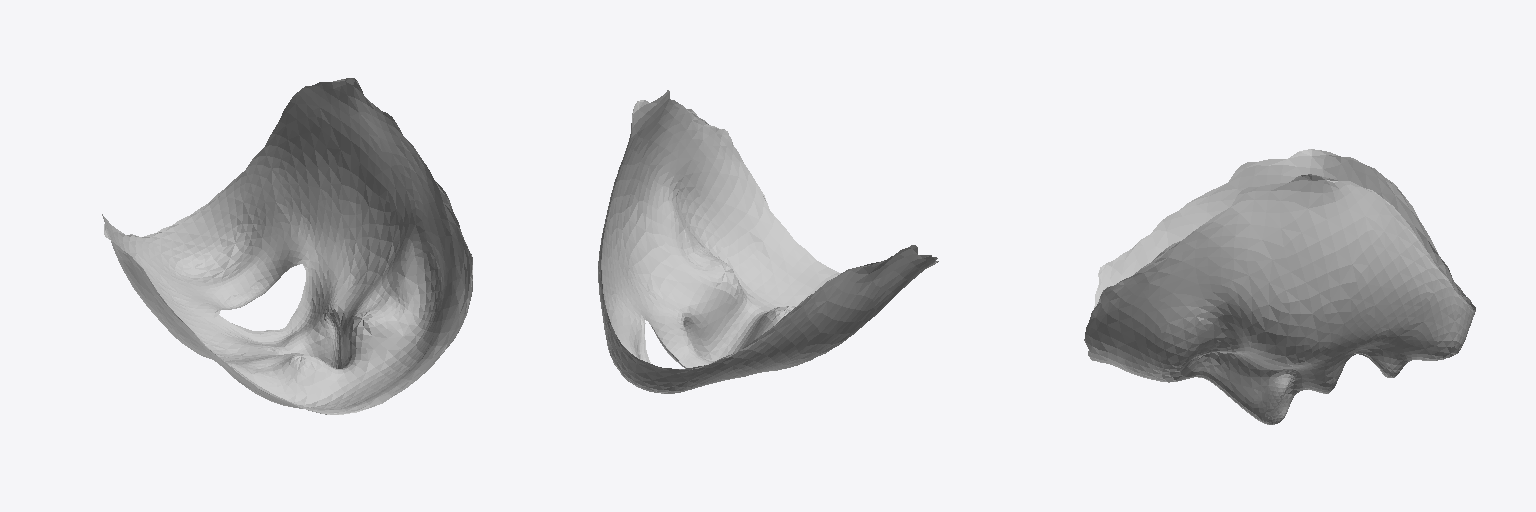
Rendered from face_gab_sfm80.obj.
3 renders of one model, left to right at view 1: azimuth 30°, elevation 25°; view 2: azimuth 150°, elevation 25°; view 3: azimuth 270°, elevation 25°, orthographic.
Size of the model in its own units: 166 by 162 by 208.